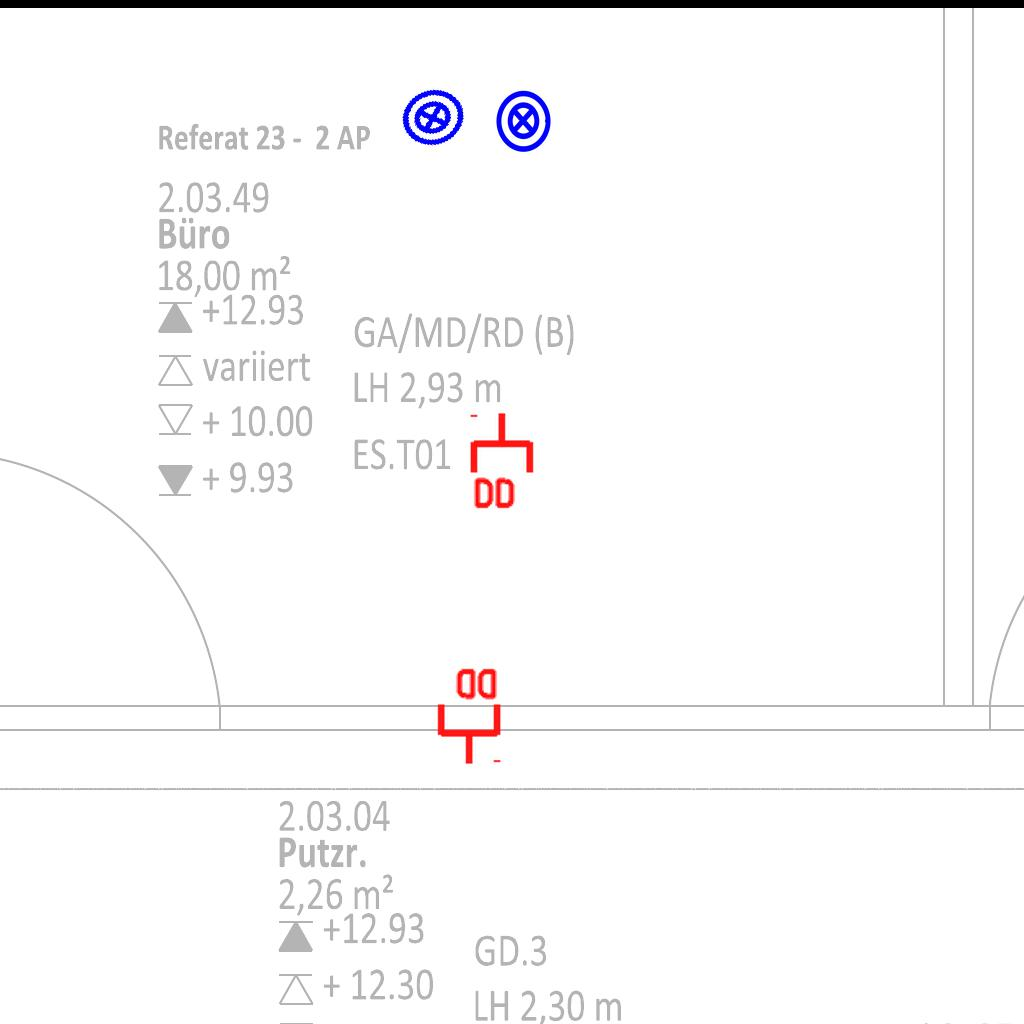Datenanschluss_zweifach: (433, 664, 502, 767), (469, 410, 538, 513)
Taster_beleuchtet: (391, 76, 475, 160), (490, 88, 556, 154)
